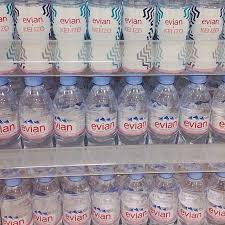evian: (19, 76, 55, 147), (83, 76, 118, 145), (179, 76, 212, 145), (117, 76, 149, 144), (148, 76, 179, 145)
